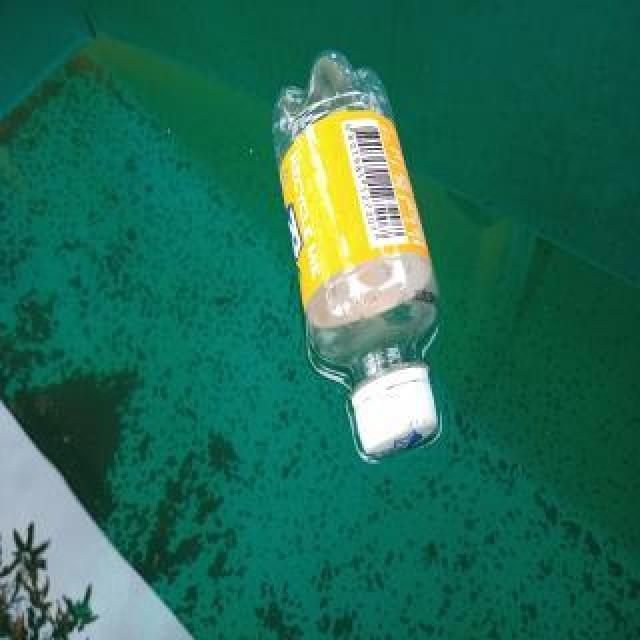bottle: (269, 42, 445, 468)
